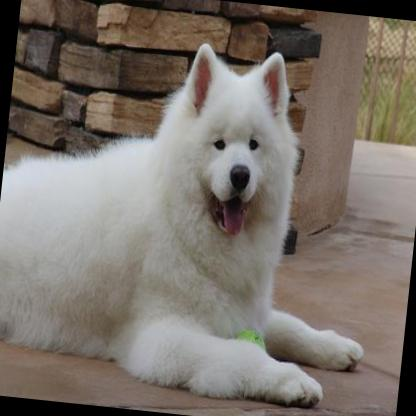Samoyed: (0, 23, 393, 410)
